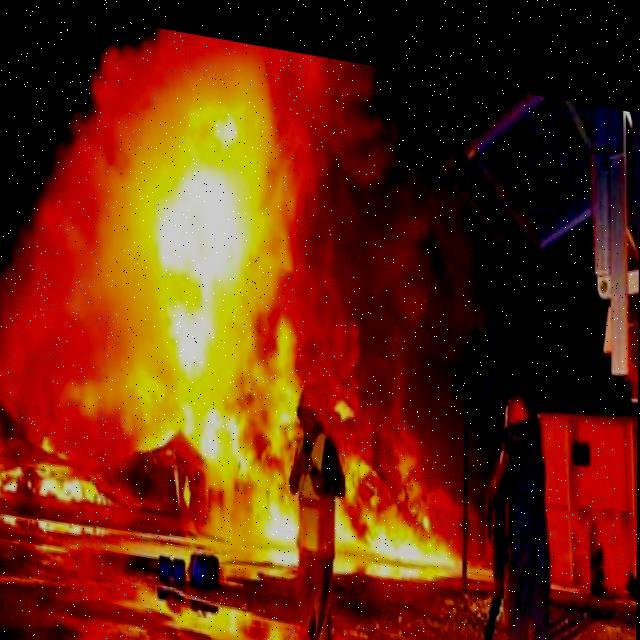Fire: (130, 58, 463, 568)
